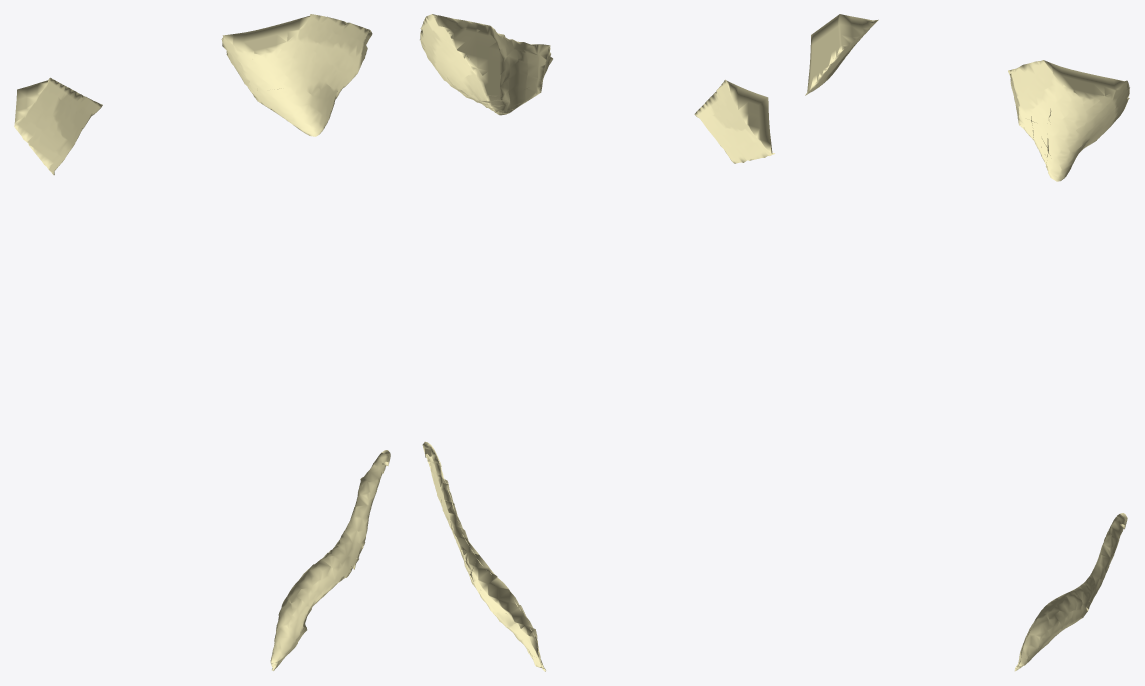
Rendered from Ptbn2l1.gltf.
3 views of the same model, side by side, from view 1: azimuth 30°, elevation 25°; view 2: azimuth 150°, elevation 25°; view 3: azimuth 330°, elevation 25° (orthographic). The views are drawn at different scales.
Parts seen in each view (by area): view 1: Switch_Switch_osgPicked_gmeGeoEntityGeode_Geometry_Geometry_ (×2), Switch_Switch_osgPicked_gmeGeoEntityGeode_Geometry_0; view 2: Switch_Switch_osgPicked_gmeGeoEntityGeode_Geometry_Geometry_ (×2), Switch_Switch_osgPicked_gmeGeoEntityGeode_Geometry_0; view 3: Switch_Switch_osgPicked_gmeGeoEntityGeode_Geometry_Geometry_ (×2), Switch_Switch_osgPicked_gmeGeoEntityGeode_Geometry_0.
Part boxes in pixels (bbox=[...]): Switch_Switch_osgPicked_gmeGeoEntityGeode_Geometry_Geometry_ (×2): bbox=[221, 14, 390, 670]; Switch_Switch_osgPicked_gmeGeoEntityGeode_Geometry_0: bbox=[14, 77, 102, 175]; Switch_Switch_osgPicked_gmeGeoEntityGeode_Geometry_Geometry_ (×2): bbox=[420, 14, 552, 671]; Switch_Switch_osgPicked_gmeGeoEntityGeode_Geometry_0: bbox=[694, 79, 774, 163]; Switch_Switch_osgPicked_gmeGeoEntityGeode_Geometry_Geometry_ (×2): bbox=[1008, 60, 1129, 671]; Switch_Switch_osgPicked_gmeGeoEntityGeode_Geometry_0: bbox=[805, 14, 878, 95].
Size of what is drawn, in the model's own units: 15405 by 26577 by 3582.
